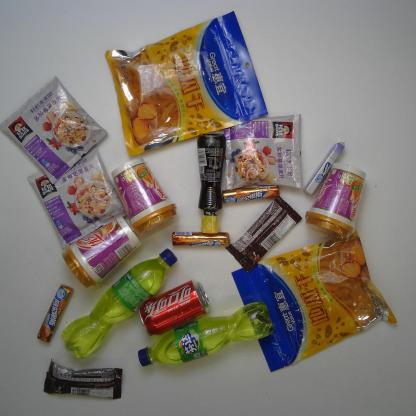Candy: (301, 139, 348, 198), (34, 283, 75, 346), (168, 228, 234, 254), (221, 184, 281, 206)
Chocolate: (222, 194, 303, 275), (41, 357, 124, 402)
Dried Fruit: (102, 8, 275, 159), (227, 227, 399, 373)
Drink: (59, 244, 180, 361), (135, 300, 277, 370), (131, 278, 214, 338)
Instant Drink: (1, 74, 109, 186), (25, 143, 129, 250), (220, 113, 304, 194), (60, 214, 144, 290), (108, 156, 180, 239), (303, 159, 370, 243)
Seasoner: (193, 130, 227, 237)
